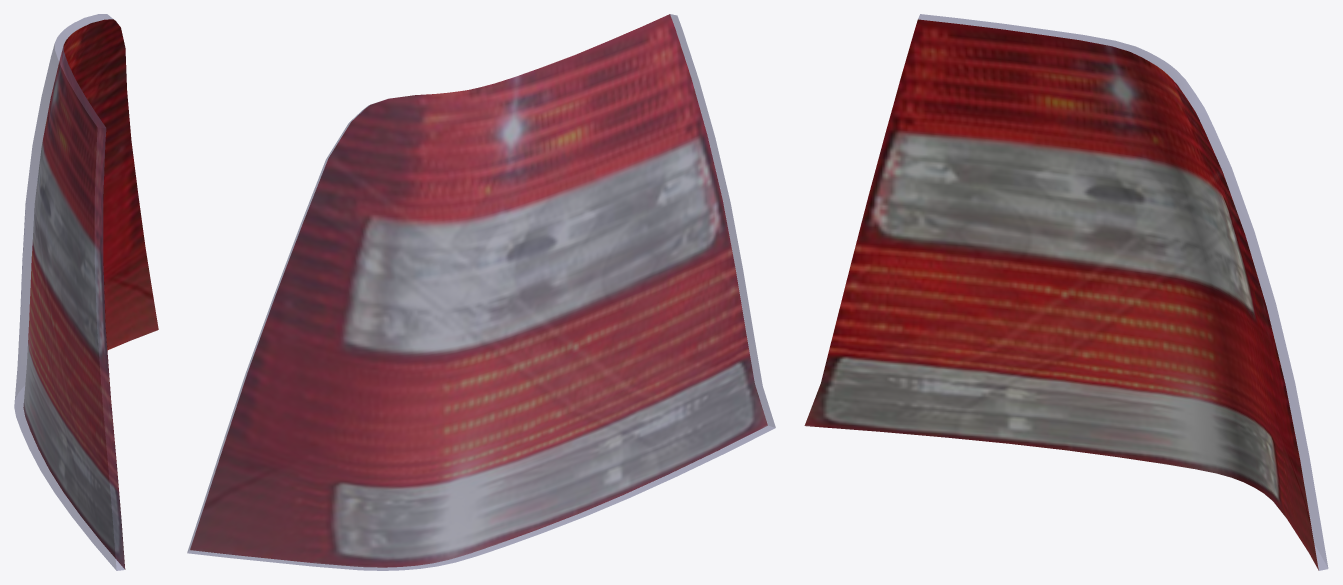
3 views of the same model, side by side, from view 1: azimuth 30°, elevation 25°; view 2: azimuth 150°, elevation 25°; view 3: azimuth 270°, elevation 25° (orthographic). The views are drawn at different scales.
Parts seen in each view (by area): view 1: X6163_541C_L_X6163_541C_L_2_N, X6163_541C_L_1_DTaSI_X6163_541C_L; view 2: X6163_541C_L_1_DTaSI_X6163_541C_L, X6163_541C_L_X6163_541C_L_2_N; view 3: X6163_541C_L_X6163_541C_L_2_N, X6163_541C_L_1_DTaSI_X6163_541C_L.
Part boxes in pixels (x1,y1,x2,y2): X6163_541C_L_X6163_541C_L_2_N: [23, 19, 158, 569]; X6163_541C_L_1_DTaSI_X6163_541C_L: [14, 14, 124, 570]; X6163_541C_L_1_DTaSI_X6163_541C_L: [187, 14, 775, 570]; X6163_541C_L_X6163_541C_L_2_N: [190, 14, 767, 567]; X6163_541C_L_X6163_541C_L_2_N: [804, 19, 1318, 570]; X6163_541C_L_1_DTaSI_X6163_541C_L: [918, 14, 1328, 570].
Size of the model in its own units: 22.22 by 30.11 by 33.43.
